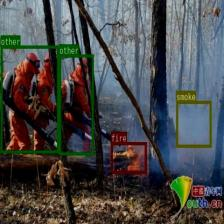fire: (110, 141, 146, 172)
smoke: (176, 100, 211, 147)
